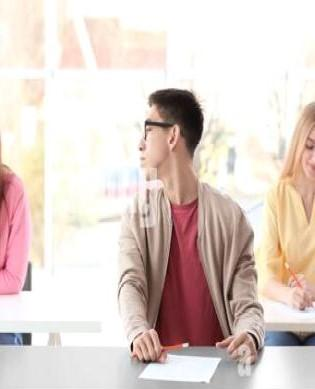cheating: (110, 83, 269, 389)
